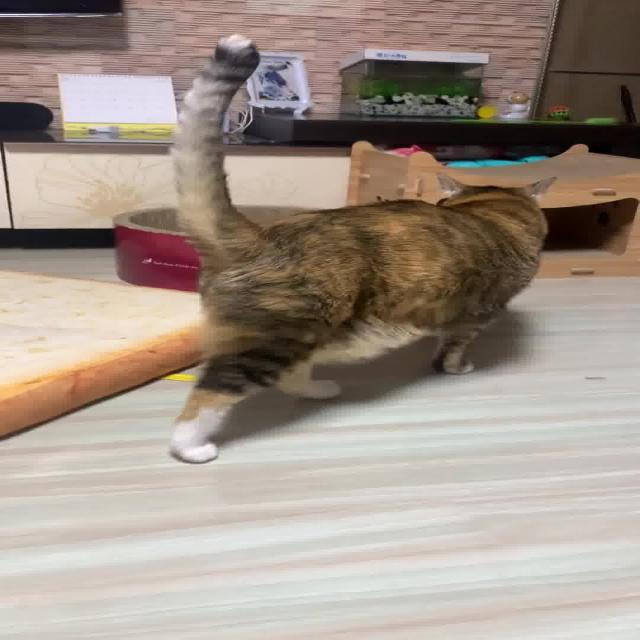cat: (111, 17, 580, 470)
